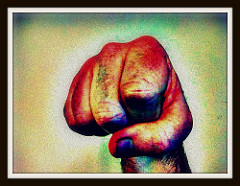fist: (69, 40, 190, 158)
